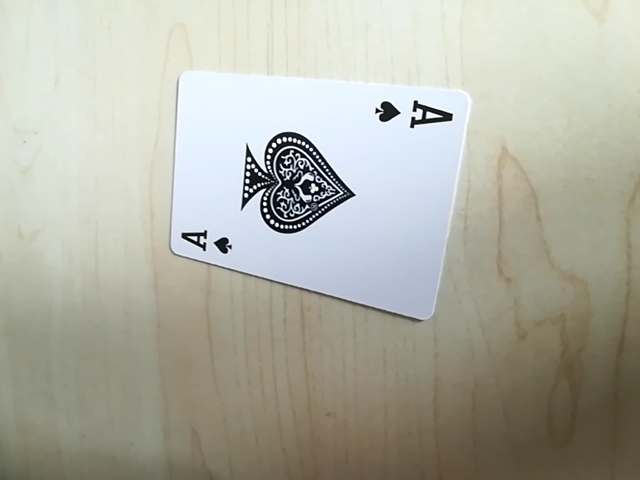ht a: (370, 92, 458, 136), (170, 224, 237, 261)
